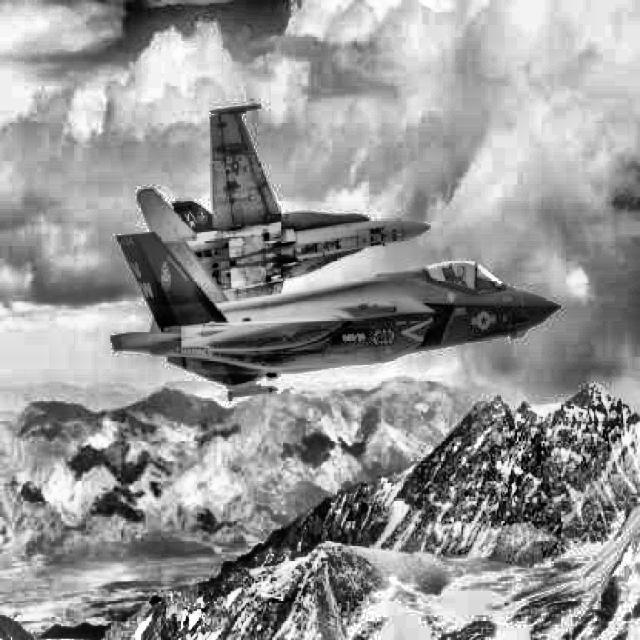F18: (136, 105, 432, 402)
F35: (110, 231, 561, 386)
